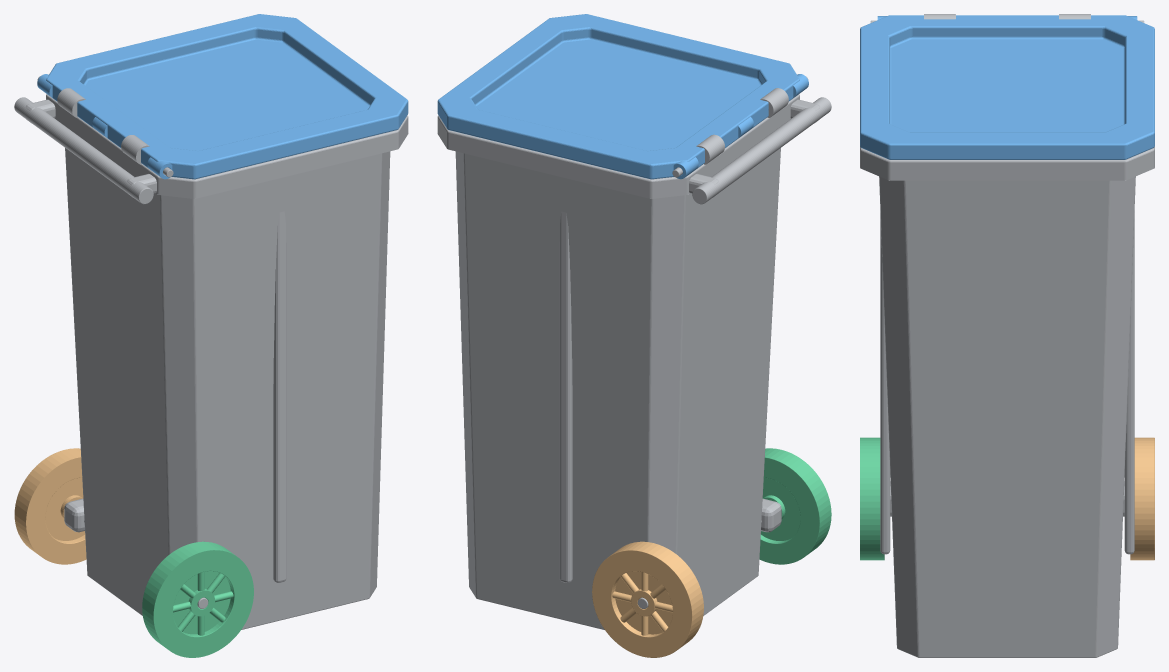
The model's file is parts.glb.
The picture shows the model from 3 angles, left to right: view 1: azimuth 30°, elevation 25°; view 2: azimuth 150°, elevation 25°; view 3: azimuth 270°, elevation 25°; orthographic projection. The views are drawn at different scales.
Visible parts, largest first — view 1: visual_0_0, visual_1_0, visual_3_0, visual_2_0; view 2: visual_0_0, visual_1_0, visual_2_0, visual_3_0; view 3: visual_0_0, visual_1_0, visual_2_0, visual_3_0.
Boxes of the visible parts, left/top/right/bottom form: visual_0_0: left=14, top=76, right=408, bottom=629; visual_1_0: left=37, top=14, right=408, bottom=179; visual_3_0: left=142, top=541, right=253, bottom=657; visual_2_0: left=14, top=448, right=86, bottom=564; visual_0_0: left=437, top=76, right=831, bottom=629; visual_1_0: left=437, top=14, right=808, bottom=179; visual_2_0: left=592, top=541, right=703, bottom=657; visual_3_0: left=759, top=448, right=831, bottom=564; visual_0_0: left=860, top=14, right=1154, bottom=657; visual_1_0: left=860, top=15, right=1154, bottom=159; visual_2_0: left=1130, top=437, right=1154, bottom=560; visual_3_0: left=860, top=437, right=884, bottom=560.
Bounding box in the file's own units: 0.55 × 0.943 × 0.48.
